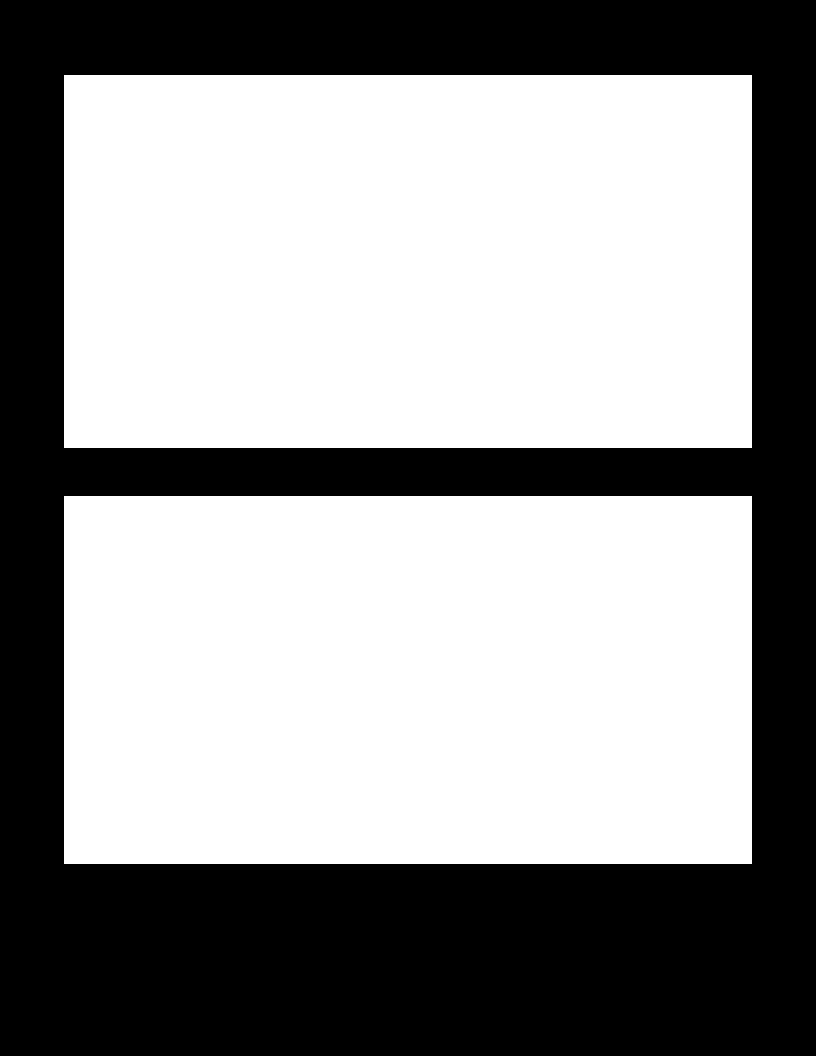table: (64, 75, 751, 447), (64, 496, 751, 863)
